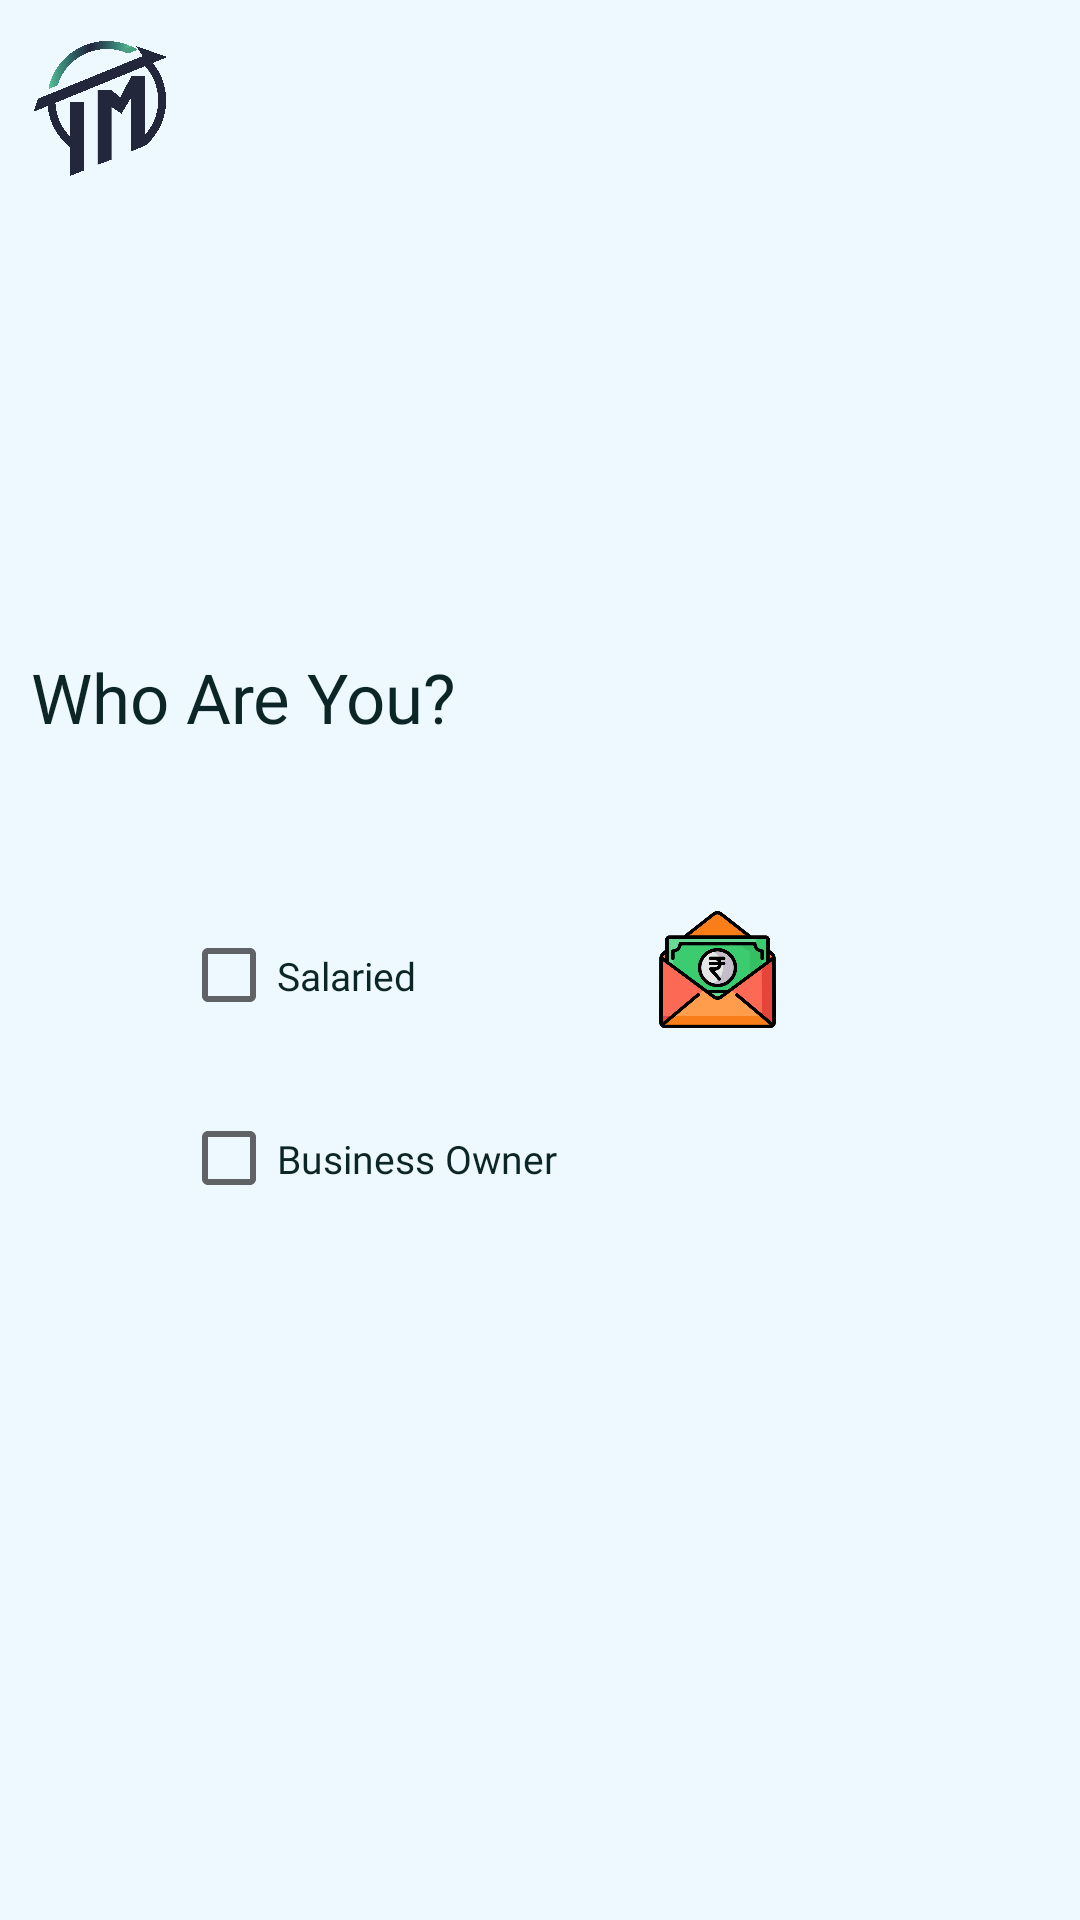

Screen size 1080px x 1920px. Icon name, then its center in pixels as (x,y):
salary: (717,969)
